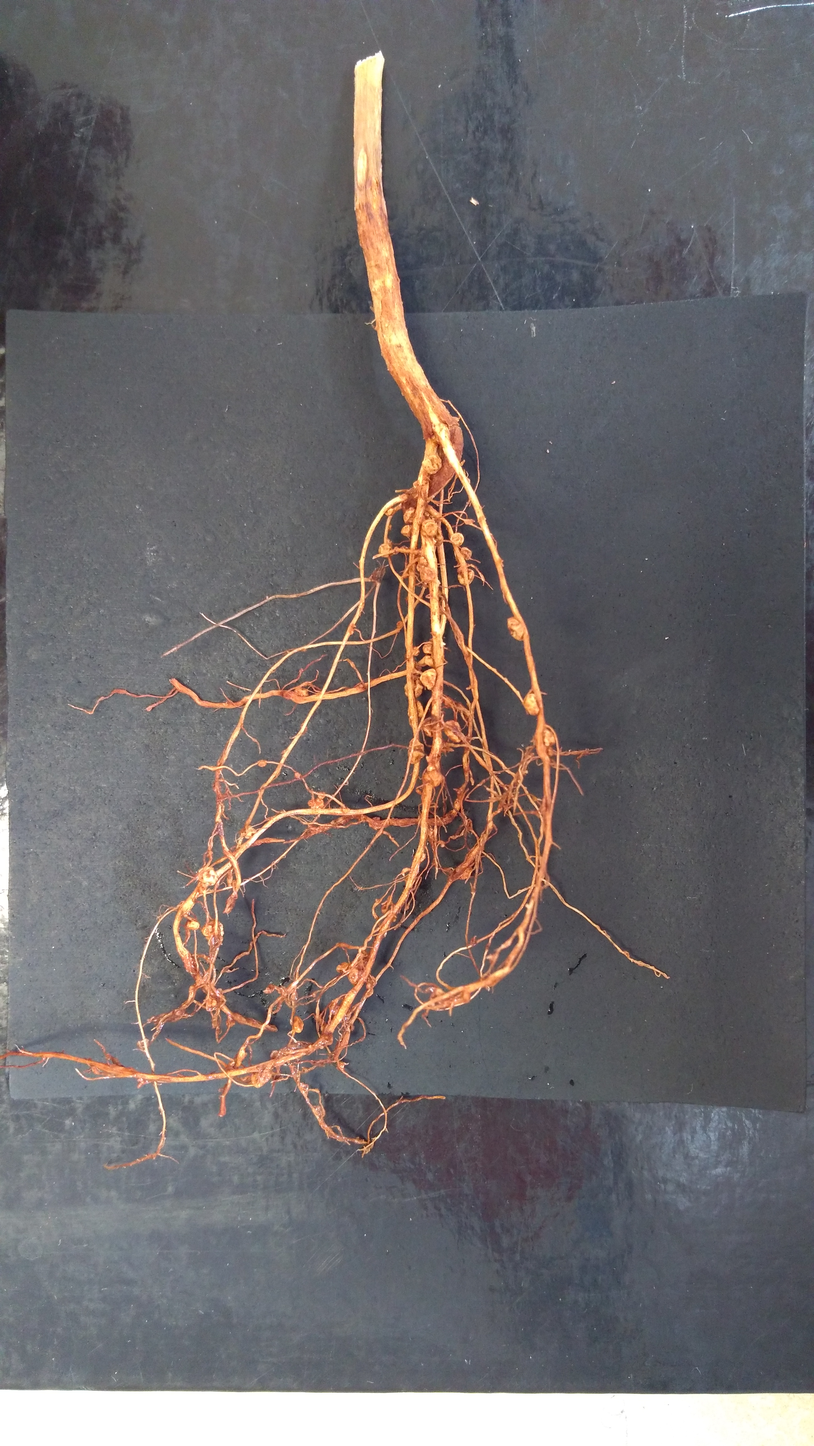nodule: (277, 1044, 302, 1066), (407, 738, 425, 764), (250, 1068, 272, 1089), (443, 720, 462, 743), (507, 617, 525, 641), (421, 455, 442, 475), (419, 668, 437, 691), (202, 920, 224, 938), (198, 867, 218, 886), (434, 423, 451, 445), (523, 693, 539, 716), (331, 1005, 351, 1023), (403, 680, 423, 698), (423, 770, 444, 787), (457, 568, 475, 586), (407, 700, 424, 719), (542, 728, 557, 747), (421, 519, 437, 536), (419, 566, 435, 583), (402, 506, 416, 525), (421, 718, 434, 737), (348, 969, 363, 985), (357, 950, 369, 969), (381, 895, 393, 913), (378, 543, 392, 558), (371, 567, 386, 581), (449, 532, 464, 546), (458, 866, 472, 881), (244, 824, 257, 839), (307, 798, 324, 809), (293, 1016, 304, 1033), (294, 686, 309, 698), (206, 936, 224, 946), (368, 816, 380, 830), (185, 919, 199, 931), (335, 961, 349, 972), (461, 547, 472, 561), (400, 524, 411, 537), (422, 641, 433, 654), (366, 975, 376, 989), (300, 1081, 309, 1095), (424, 655, 434, 667), (264, 984, 275, 994), (314, 1104, 323, 1116), (463, 518, 476, 526), (385, 507, 395, 517), (336, 1061, 345, 1072), (348, 623, 356, 635), (270, 1050, 279, 1060), (416, 563, 426, 572), (366, 988, 374, 997), (301, 723, 308, 733), (413, 646, 419, 657), (396, 621, 404, 629), (258, 759, 266, 767), (293, 772, 301, 780), (393, 546, 400, 555), (420, 852, 426, 862), (317, 792, 326, 798), (428, 827, 433, 837), (412, 481, 418, 488), (424, 512, 430, 518), (637, 961, 643, 967), (388, 524, 392, 531)
